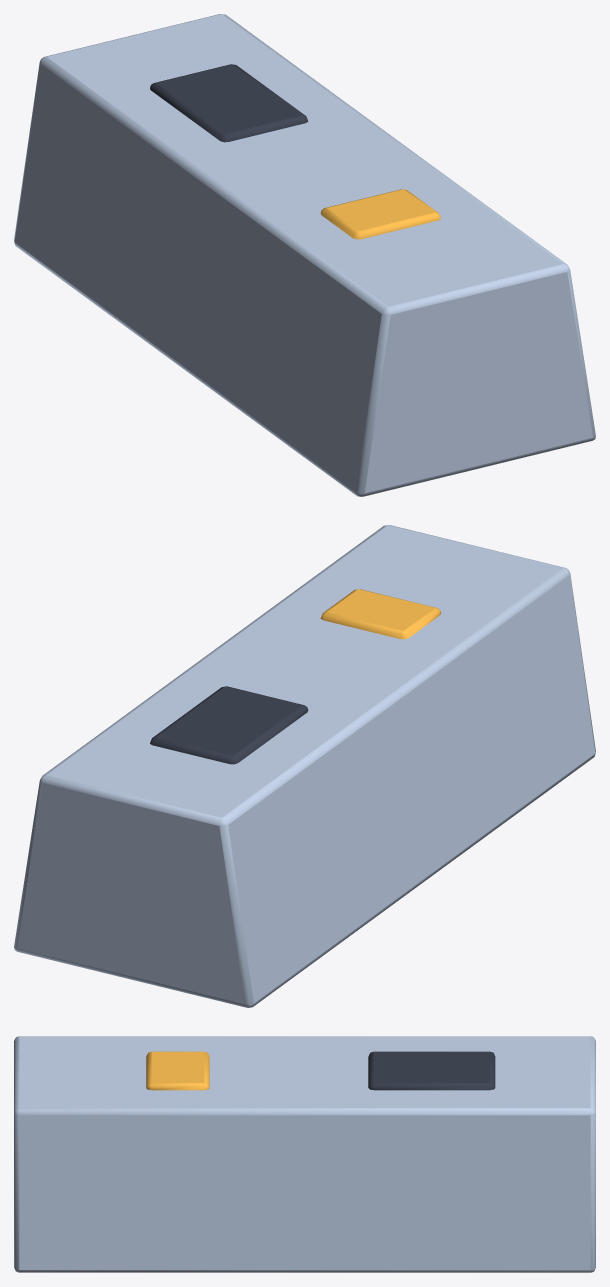
File: ware_kryostahl.fbx
3 views of the same model, one above another, from view 1: azimuth 30°, elevation 25°; view 2: azimuth 150°, elevation 25°; view 3: azimuth 270°, elevation 25° (orthographic). The views are drawn at different scales.
Visible parts, largest first — view 1: ware_kryostahl_Koerper; view 2: ware_kryostahl_Koerper; view 3: ware_kryostahl_Koerper.
Boxes of the visible parts, x1=… form: ware_kryostahl_Koerper: x1=14, y1=14, x2=595, y2=496; ware_kryostahl_Koerper: x1=14, y1=525, x2=595, y2=1007; ware_kryostahl_Koerper: x1=14, y1=1036, x2=595, y2=1272.
Size of the model in its own units: 0.2185 by 0.165 by 0.55.
